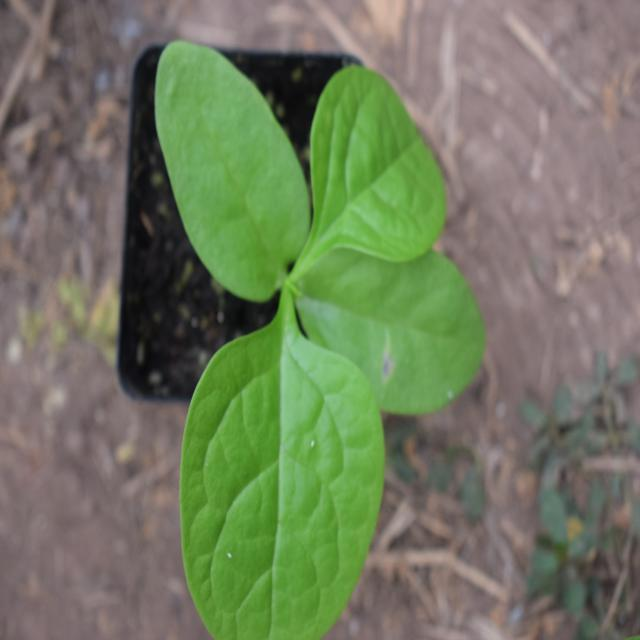Ceylon spinach: (150, 30, 479, 632)
